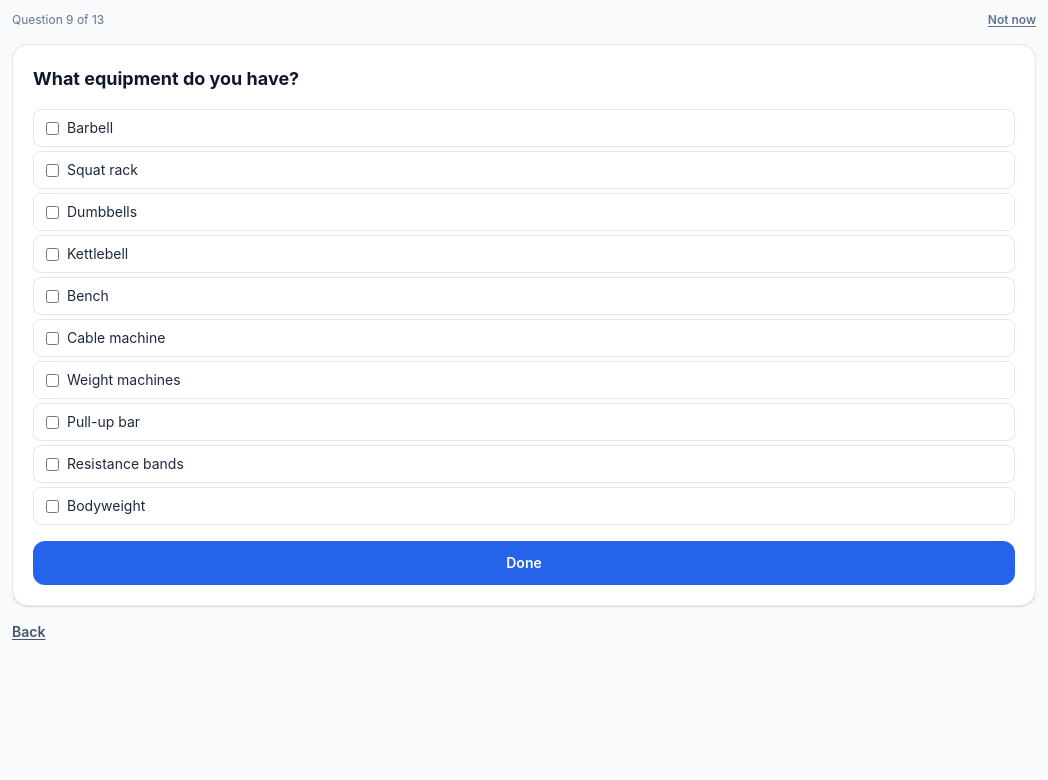
The setup conversation on Home (S-015) › only asks about a heaviest dumbbell if you have dumbbells
Click the checkbox labelled "Barbell": (52, 128) left=46, top=122, right=59, bottom=134
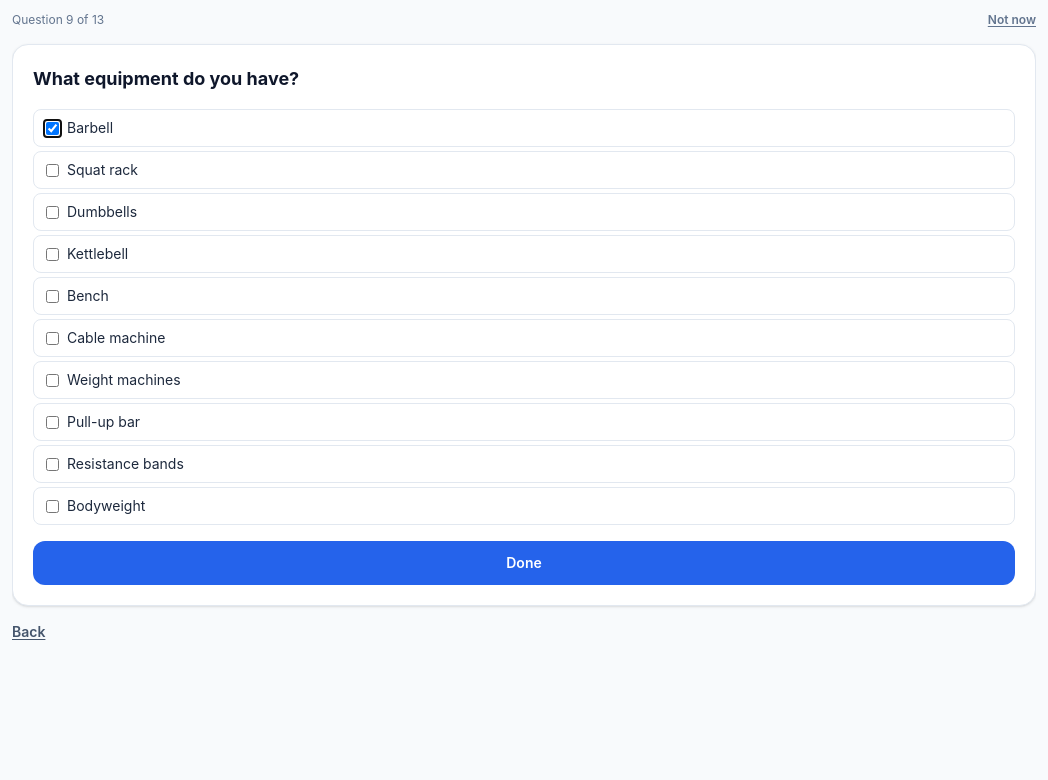
Click the button "Done": (524, 563) left=33, top=541, right=1015, bottom=585
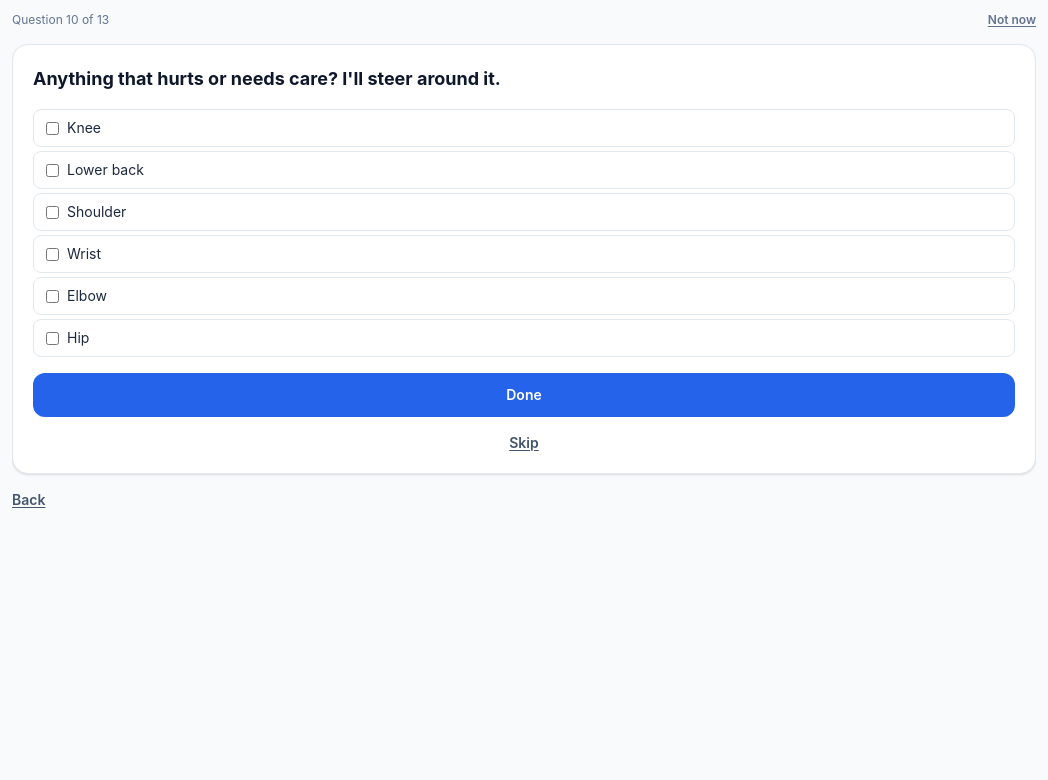
Now the text "Anything that hurts or needs care? I'll steer around it." is shown, box left=33, top=68, right=501, bottom=89
